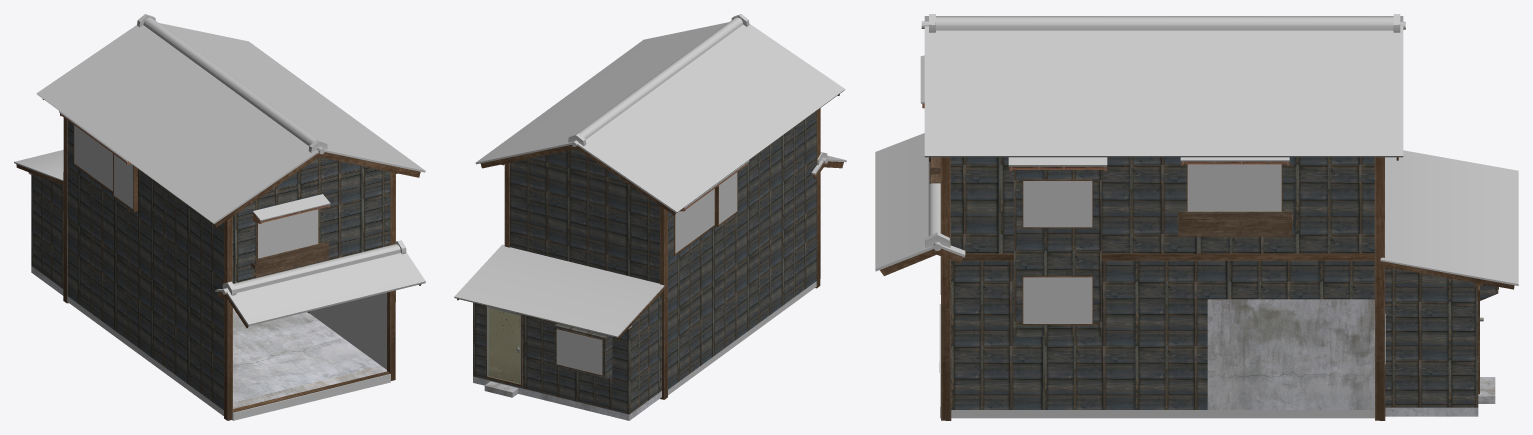
The picture shows the model from 3 angles, left to right: view 1: azimuth 30°, elevation 25°; view 2: azimuth 150°, elevation 25°; view 3: azimuth 270°, elevation 25°; orthographic projection. The views are drawn at different scales.
Visible parts, largest first — view 1: ms_h01k_1b; view 2: ms_h01k_1b; view 3: ms_h01k_1b.
Part boxes in pixels (bbox=[...]): ms_h01k_1b: bbox=[14, 14, 425, 420]; ms_h01k_1b: bbox=[454, 14, 846, 420]; ms_h01k_1b: bbox=[875, 14, 1518, 420].
Size of the model in its own units: 708 by 835 by 1374.
